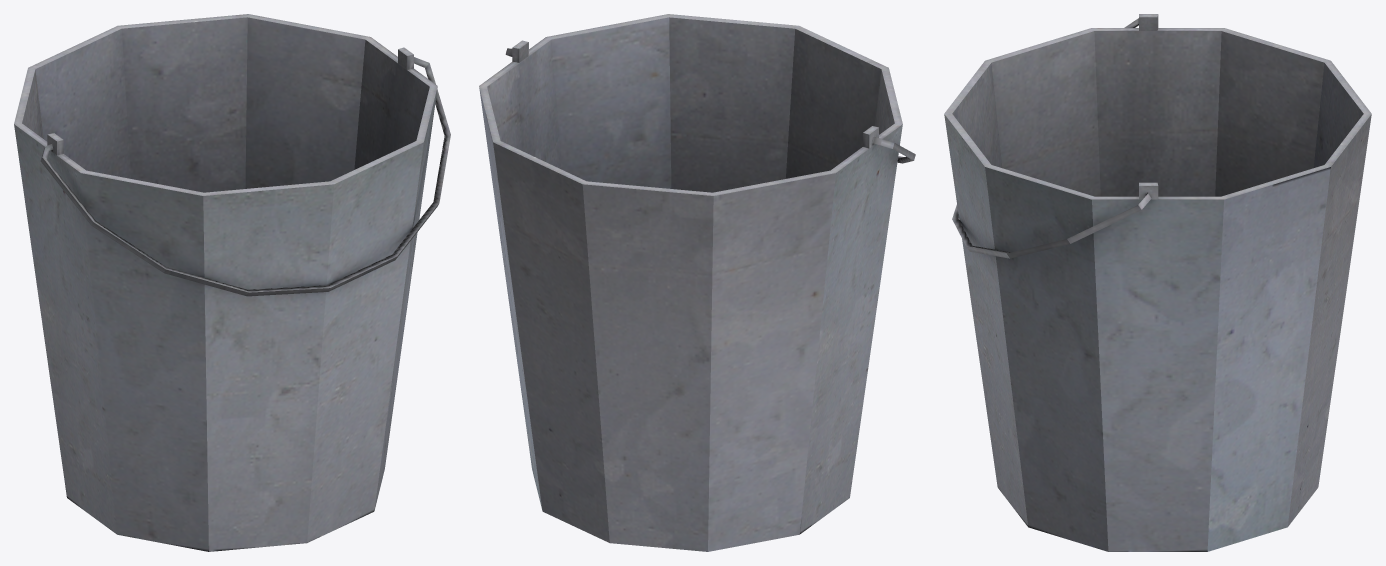
File: buck1.fbx
3 views of the same model, side by side, from view 1: azimuth 30°, elevation 25°; view 2: azimuth 150°, elevation 25°; view 3: azimuth 270°, elevation 25° (orthographic).
Parts seen in each view (by area): view 1: buck1_Layer1; view 2: buck1_Layer1; view 3: buck1_Layer1.
Boxes of the visible parts, <box> form: buck1_Layer1: <box>14,14,450,551</box>; buck1_Layer1: <box>479,14,915,551</box>; buck1_Layer1: <box>944,14,1371,551</box>.
Bounding box in the file's own units: 57.8 × 56 × 56.
Materials: 1 (1 with a texture image).
